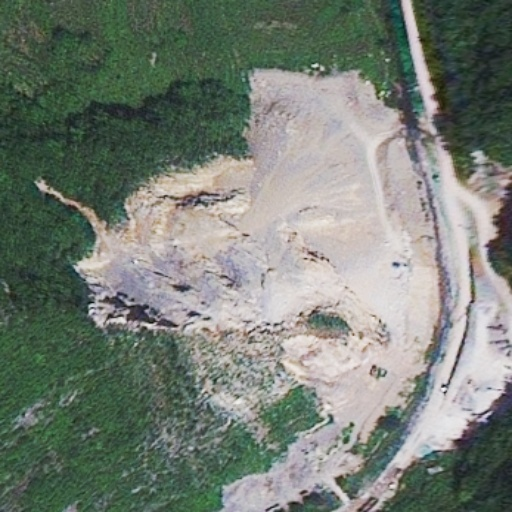landslide: (36, 71, 441, 382)
